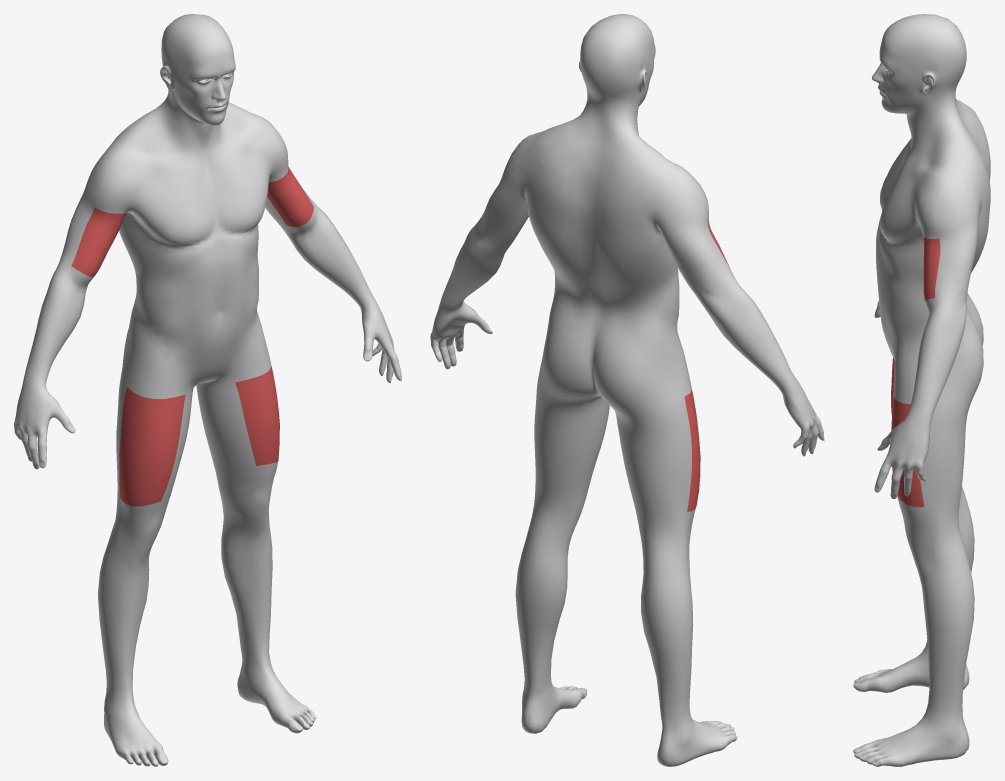
3 renders of one model, left to right at view 1: azimuth 30°, elevation 25°; view 2: azimuth 150°, elevation 25°; view 3: azimuth 270°, elevation 25°, orthographic.
Visible parts, largest first — view 1: male_genericMesh; view 2: male_genericMesh; view 3: male_genericMesh.
Boxes of the visible parts, x1,y1,x2,y2 form: male_genericMesh: [14, 14, 401, 766]; male_genericMesh: [430, 14, 824, 766]; male_genericMesh: [853, 14, 990, 766].
Bounding box in the file's own units: 5.11 × 9.29 × 1.64.
